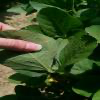Soyabean leaf: (0, 29, 59, 76), (38, 6, 84, 42), (58, 34, 98, 73)
